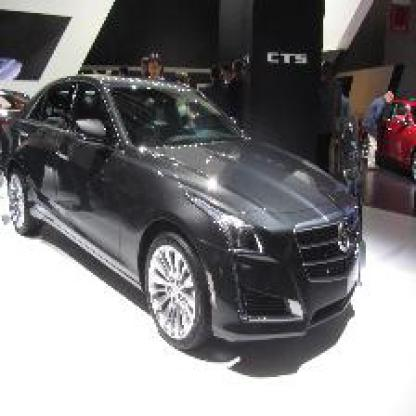not_emergency: (6, 67, 398, 382)
